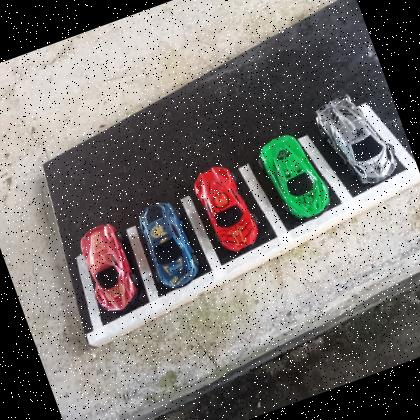Car: (311, 84, 403, 195), (254, 126, 336, 228), (72, 218, 147, 319), (188, 160, 264, 258), (132, 196, 206, 294)
